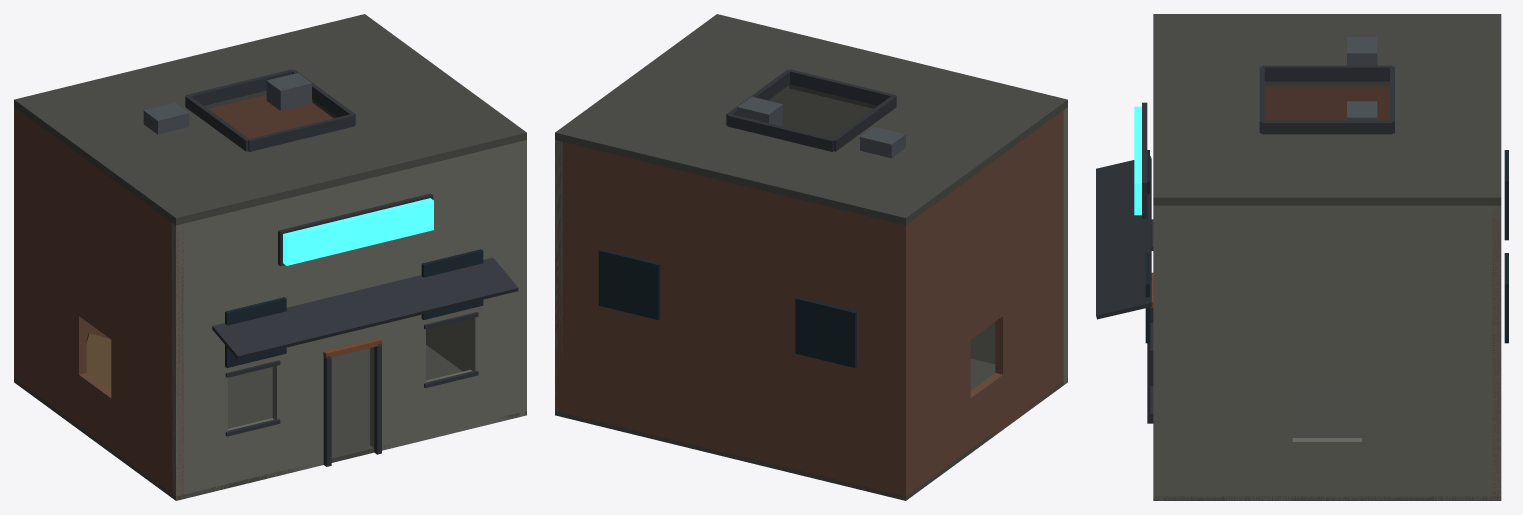
Rendered from shop_clinic.glb.
The picture shows the model from 3 angles, left to right: view 1: azimuth 30°, elevation 25°; view 2: azimuth 150°, elevation 25°; view 3: azimuth 270°, elevation 25°; orthographic projection. The views are drawn at different scales.
Parts seen in each view (by area): view 1: shop_clinic; view 2: shop_clinic; view 3: shop_clinic.
Boxes of the visible parts, x1,y1,x2,y2 form: shop_clinic: (14, 14, 526, 500); shop_clinic: (555, 14, 1067, 500); shop_clinic: (1096, 14, 1508, 500).
Size of the model in its own units: 10 by 8.18 by 9.5.
